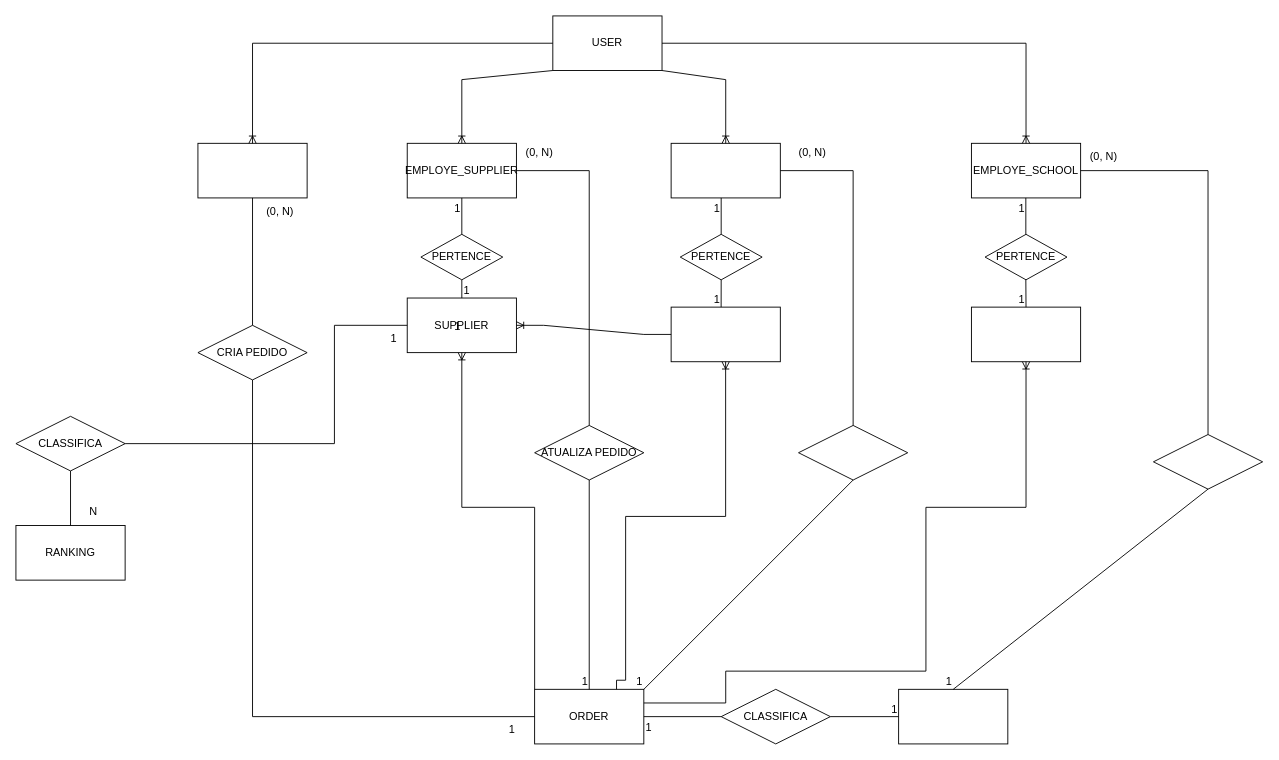
Some shapes in this 1279 by 760 pixel diagram are drawn without their labels. Each missing label, with the centre of its shape:
"ASSESMENT" belongs at point 953,716.
"CONFIRMA ENTREGA" belongs at point 853,452.
"EMPLOYE_ TRANSPORTES" belongs at point 725,170.
"EMPLOYE_SEDUC" belongs at point 252,170.
"FAZ AVALIAÇÃO" belongs at point 1208,461.
"SCHOOL" belongs at point 1026,334.
"TRANSPORTER" belongs at point 725,334.
